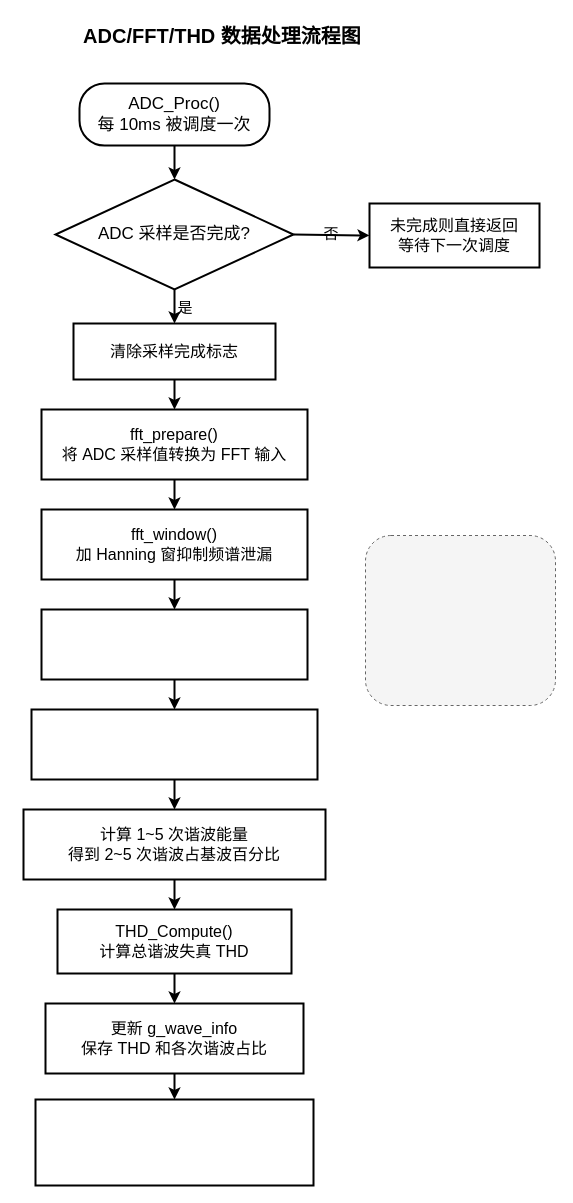
Some shapes in this 573 by 1203 pixel diagram are drawn without their labels. The centre of each missing label's shape, as x and y in pixels:
"fft_find_peaks() + fft_get_axis() 定位基波峰值与频率轴" belongs at [174,744].
"fft_process() 完成 FFT 计算并得到幅度谱" belongs at [174,644].
"清空 ADC 缓冲区 重新启动 ADC_StartNormal() 开始下一轮 2048 点采样" belongs at [174,1142].
"说明 1. 采样缓冲区为 g_adc_buffer[2048] 2. 采样完成由 ADC DMA 中断置位标志 3. 数据处理与重新启动采样在任务中完成" belongs at [460,620].
